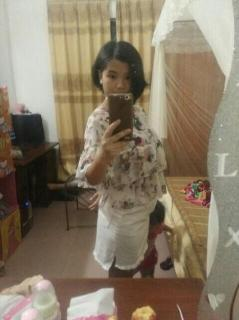short sleeve top: (75, 104, 167, 208)
skirt: (93, 188, 158, 271)
